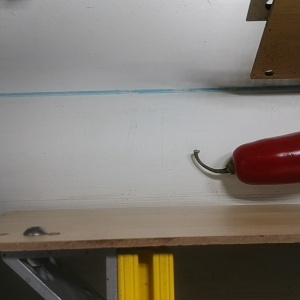Cut Point: (221, 143, 253, 185)
